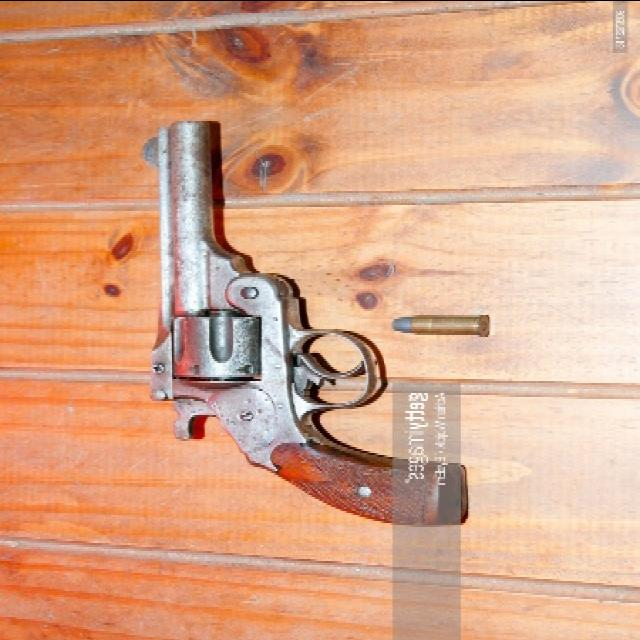handgun: (136, 117, 469, 533)
